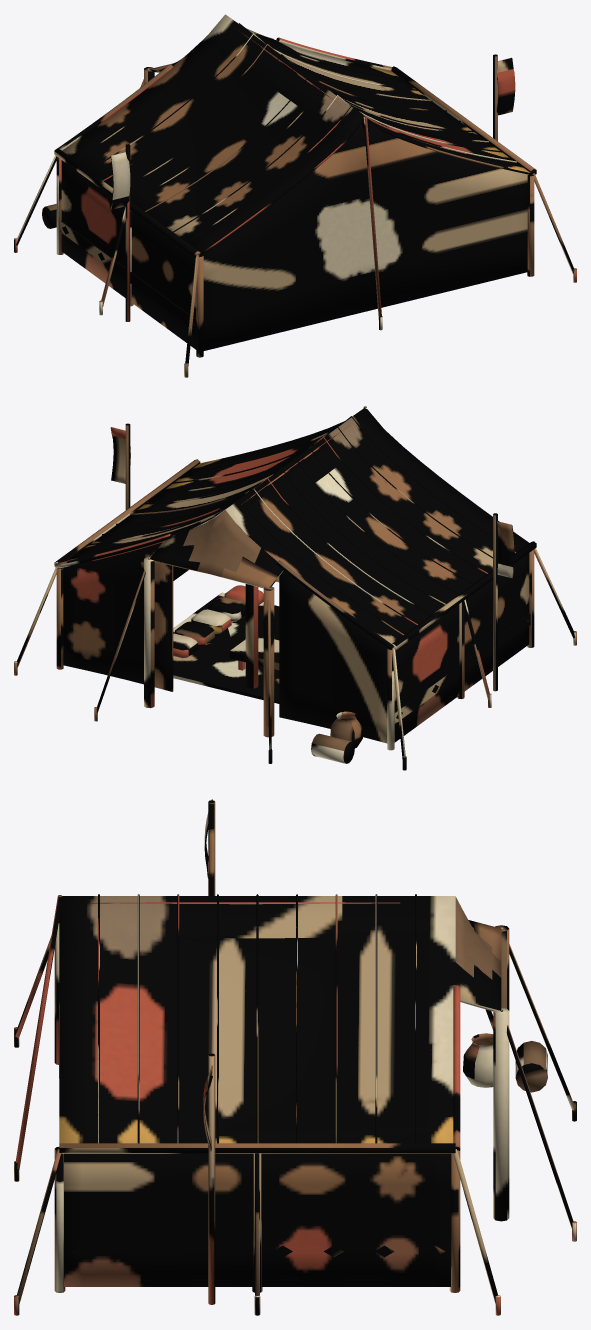
The picture shows the model from 3 angles, top to bottom: view 1: azimuth 30°, elevation 25°; view 2: azimuth 150°, elevation 25°; view 3: azimuth 270°, elevation 25°; orthographic projection. The views are drawn at different scales.
Parts seen in each view (by area): view 1: garrison_part_0003, garrison_part_0002, garrison_part_0004, garrison_part_0001; view 2: garrison_part_0002, garrison_part_0003, garrison_part_0004, garrison_part_0001, garrison_part_0000; view 3: garrison_part_0002, garrison_part_0003, garrison_part_0001, garrison_part_0004, garrison_part_0000.
Part boxes in pixels (bbox=[...]): garrison_part_0003: bbox=[58, 37, 528, 350]; garrison_part_0002: bbox=[16, 14, 574, 365]; garrison_part_0004: bbox=[42, 54, 515, 321]; garrison_part_0001: bbox=[56, 26, 534, 357]; garrison_part_0002: bbox=[16, 406, 574, 758]; garrison_part_0003: bbox=[55, 533, 530, 743]; garrison_part_0004: bbox=[110, 423, 514, 763]; garrison_part_0001: bbox=[56, 425, 534, 750]; garrison_part_0000: bbox=[14, 592, 576, 770]; garrison_part_0002: bbox=[15, 894, 574, 1304]; garrison_part_0003: bbox=[64, 985, 460, 1286]; garrison_part_0001: bbox=[54, 902, 509, 1292]; garrison_part_0004: bbox=[203, 799, 547, 1304]; garrison_part_0000: bbox=[14, 1027, 576, 1315].
Bounding box in the file's own units: 1610 × 778 × 1386.
